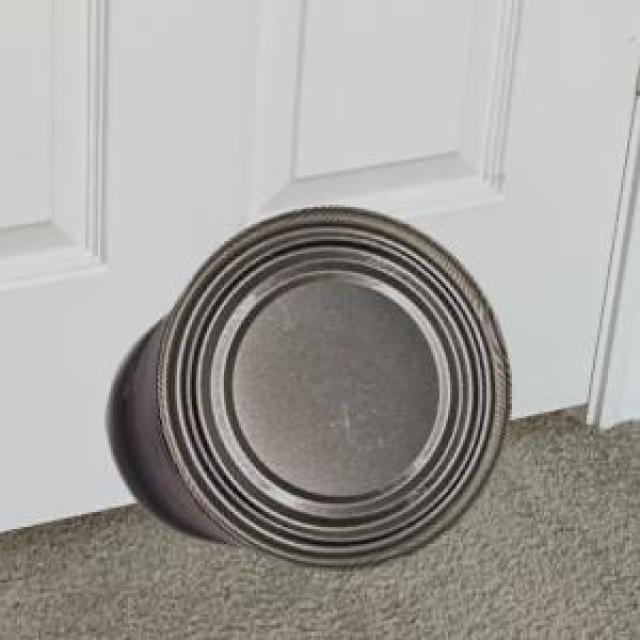logam: (103, 204, 509, 569)
